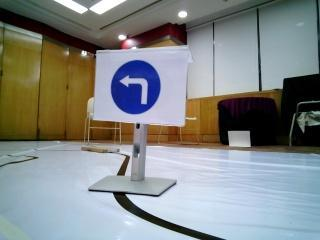left: (100, 51, 182, 124)
